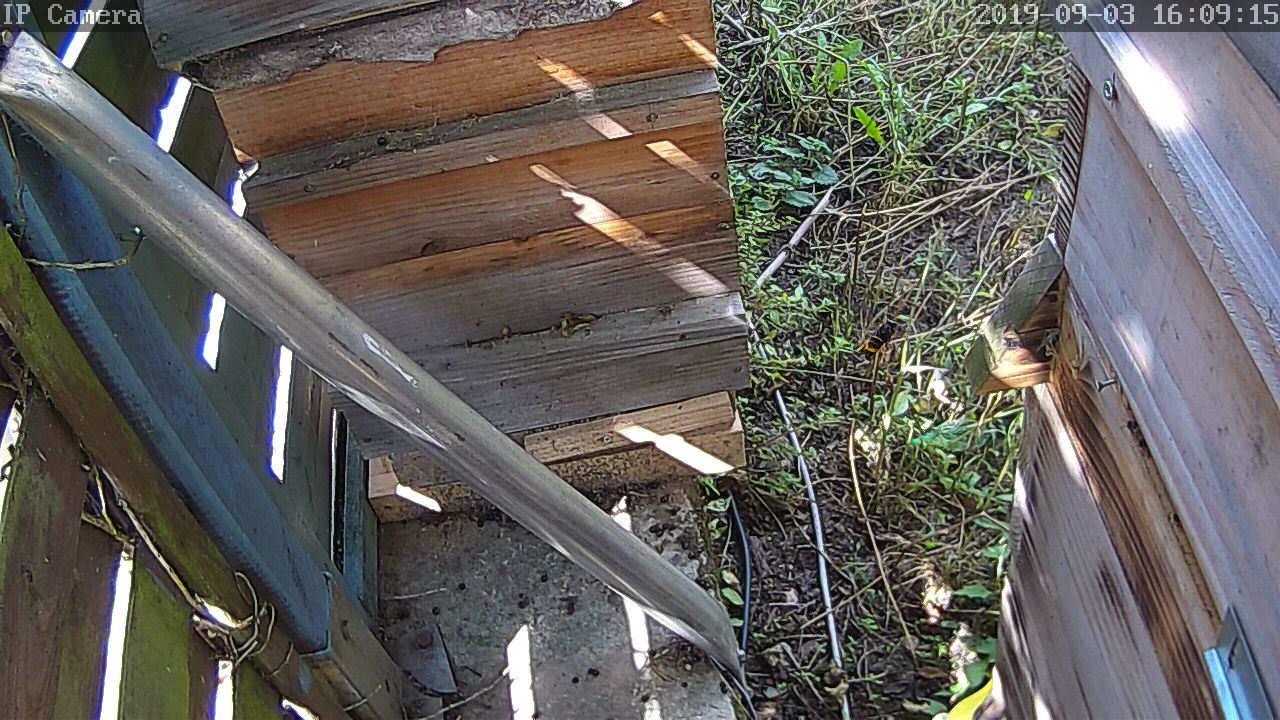bee: (1126, 414, 1158, 446)
hornet: (860, 312, 900, 365)
